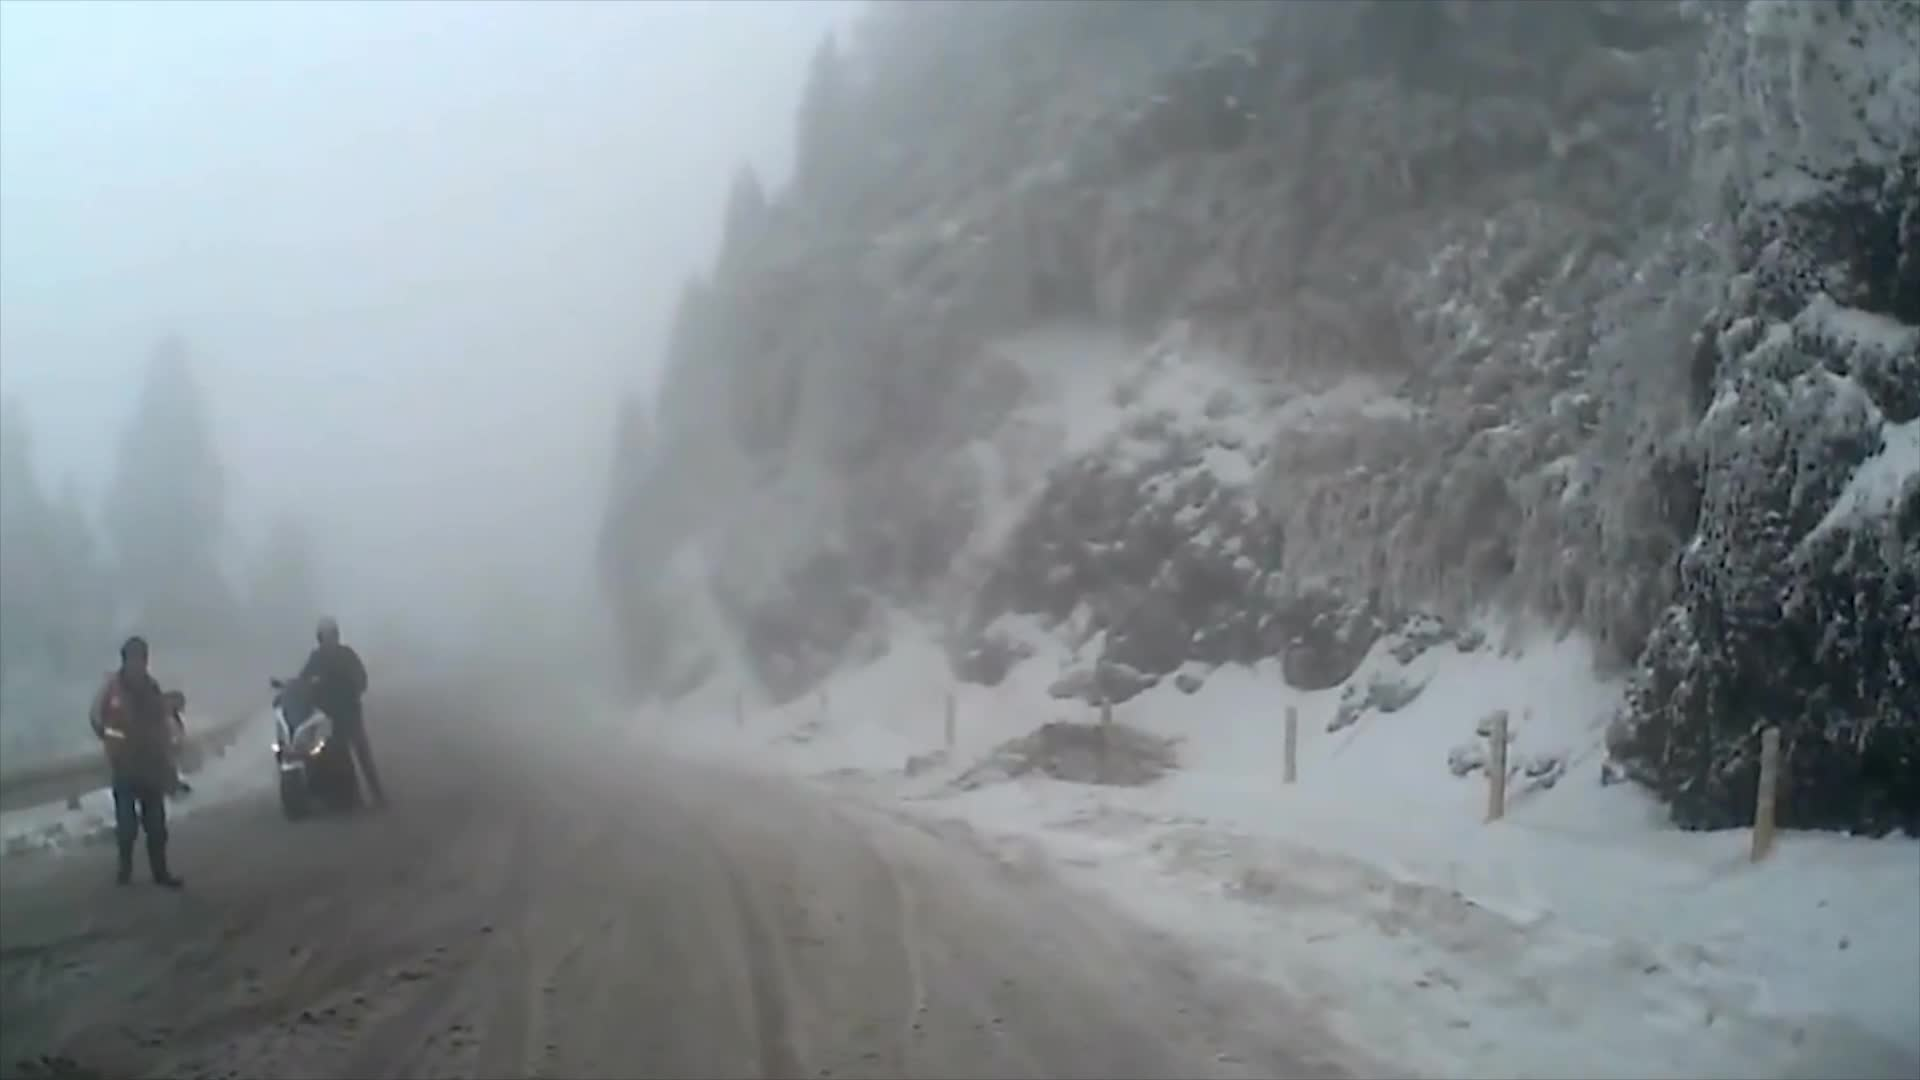pedestrian: (87, 639, 184, 894), (282, 614, 395, 821)
